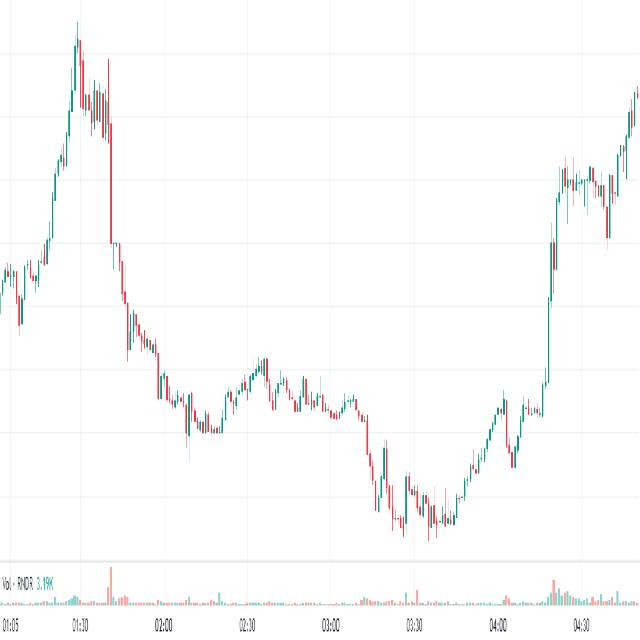Head-Shoulders: (45, 14, 115, 270)
